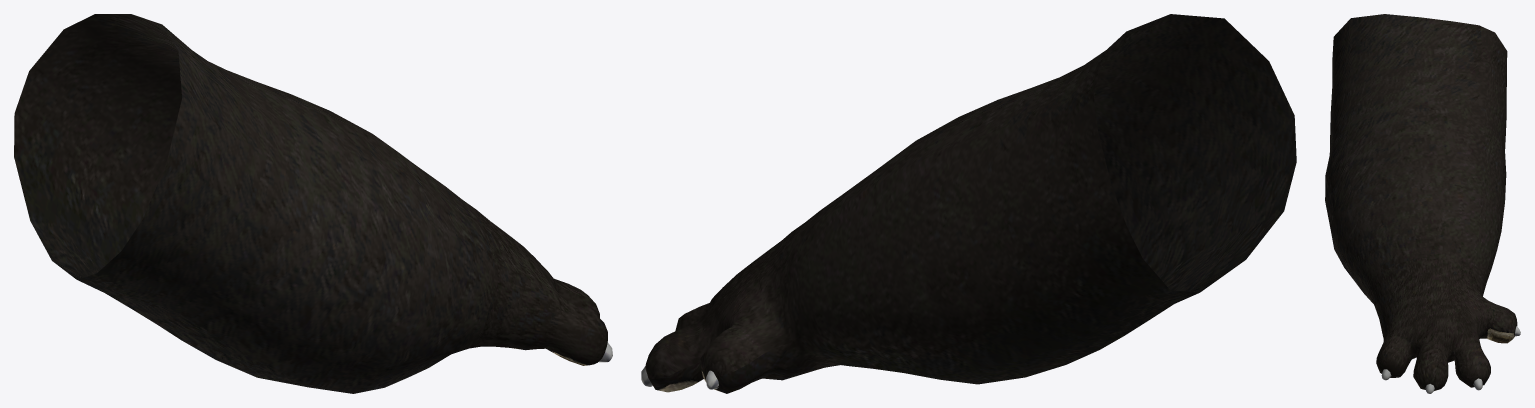
The model's file is BraDerPo.obj.
The picture shows the model from 3 angles, left to right: view 1: azimuth 30°, elevation 25°; view 2: azimuth 150°, elevation 25°; view 3: azimuth 270°, elevation 25°; orthographic projection. The views are drawn at different scales.
Visible parts, largest first — view 1: ValveBiped.Bip01_R_Forearm, ValveBiped.Bip01_R_UpperArm, ValveBiped.Bip01_R_Hand, ValveBiped.Bip01_R_Finger31, ValveBiped.Bip01_R_Finger3, ValveBiped.Bip01_Spine4, ValveBiped.Bip01_R_Finger22; view 2: ValveBiped.Bip01_R_Forearm, ValveBiped.Bip01_R_UpperArm, ValveBiped.Bip01_R_Hand, ValveBiped.Bip01_R_Finger01, ValveBiped.Bip01_R_Finger0, ValveBiped.Bip01_R_Finger1, ValveBiped.Bip01_Spine4, ValveBiped.Bip01_R_Finger11, BraDerPo_PoMaterial; view 3: ValveBiped.Bip01_R_Forearm, ValveBiped.Bip01_R_UpperArm, ValveBiped.Bip01_R_Hand, ValveBiped.Bip01_R_Finger22, ValveBiped.Bip01_R_Finger01, ValveBiped.Bip01_R_Finger31, ValveBiped.Bip01_R_Finger3, ValveBiped.Bip01_R_Finger11, ValveBiped.Bip01_R_Finger2, ValveBiped.Bip01_R_Finger1, ValveBiped.Bip01_R_Finger0, BraDerPo_PoMaterial (+1 smaller).
Boxes of the visible parts, box(x1,y1,x2,y2) form: ValveBiped.Bip01_R_Forearm: box(107, 81, 493, 393); ValveBiped.Bip01_R_UpperArm: box(14, 14, 278, 309); ValveBiped.Bip01_R_Hand: box(452, 197, 556, 353); ValveBiped.Bip01_R_Finger31: box(556, 305, 612, 365); ValveBiped.Bip01_R_Finger3: box(537, 273, 585, 358); ValveBiped.Bip01_Spine4: box(166, 98, 212, 162); ValveBiped.Bip01_R_Finger22: box(554, 278, 599, 317); ValveBiped.Bip01_R_Forearm: box(787, 76, 1221, 384); ValveBiped.Bip01_R_UpperArm: box(981, 14, 1296, 349); ValveBiped.Bip01_R_Hand: box(702, 222, 847, 380); ValveBiped.Bip01_R_Finger01: box(700, 327, 790, 393); ValveBiped.Bip01_R_Finger0: box(721, 278, 802, 380); ValveBiped.Bip01_R_Finger1: box(671, 316, 714, 376); ValveBiped.Bip01_Spine4: box(1193, 18, 1268, 60); ValveBiped.Bip01_R_Finger11: box(646, 332, 703, 392); BraDerPo_PoMaterial: box(641, 348, 693, 386); ValveBiped.Bip01_R_Forearm: box(1325, 82, 1506, 303); ValveBiped.Bip01_R_UpperArm: box(1330, 14, 1507, 150); ValveBiped.Bip01_R_Hand: box(1362, 244, 1486, 356); ValveBiped.Bip01_R_Finger22: box(1413, 345, 1448, 393); ValveBiped.Bip01_R_Finger01: box(1480, 301, 1520, 343); ValveBiped.Bip01_R_Finger31: box(1376, 339, 1411, 380); ValveBiped.Bip01_R_Finger3: box(1382, 317, 1421, 362); ValveBiped.Bip01_R_Finger11: box(1454, 347, 1488, 387); ValveBiped.Bip01_R_Finger2: box(1412, 335, 1454, 362); ValveBiped.Bip01_R_Finger1: box(1451, 328, 1483, 361); ValveBiped.Bip01_R_Finger0: box(1463, 286, 1492, 338); BraDerPo_PoMaterial: box(1456, 354, 1490, 390).
Size of the model in its own units: 1.95 by 1.43 by 1.01.
